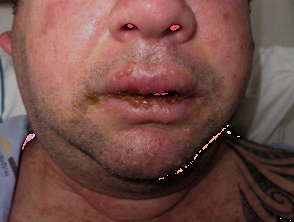SJS-TEN: (54, 81, 191, 126), (110, 61, 186, 80)
